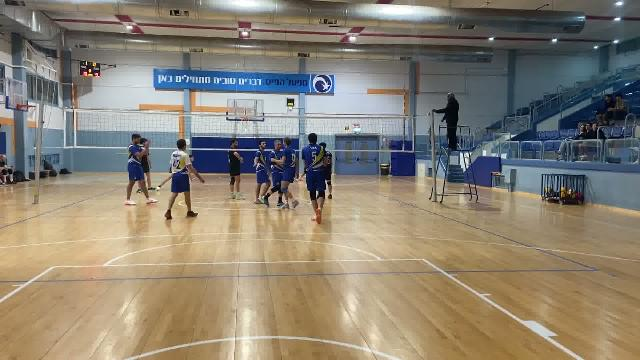ball: (343, 123, 353, 134)
